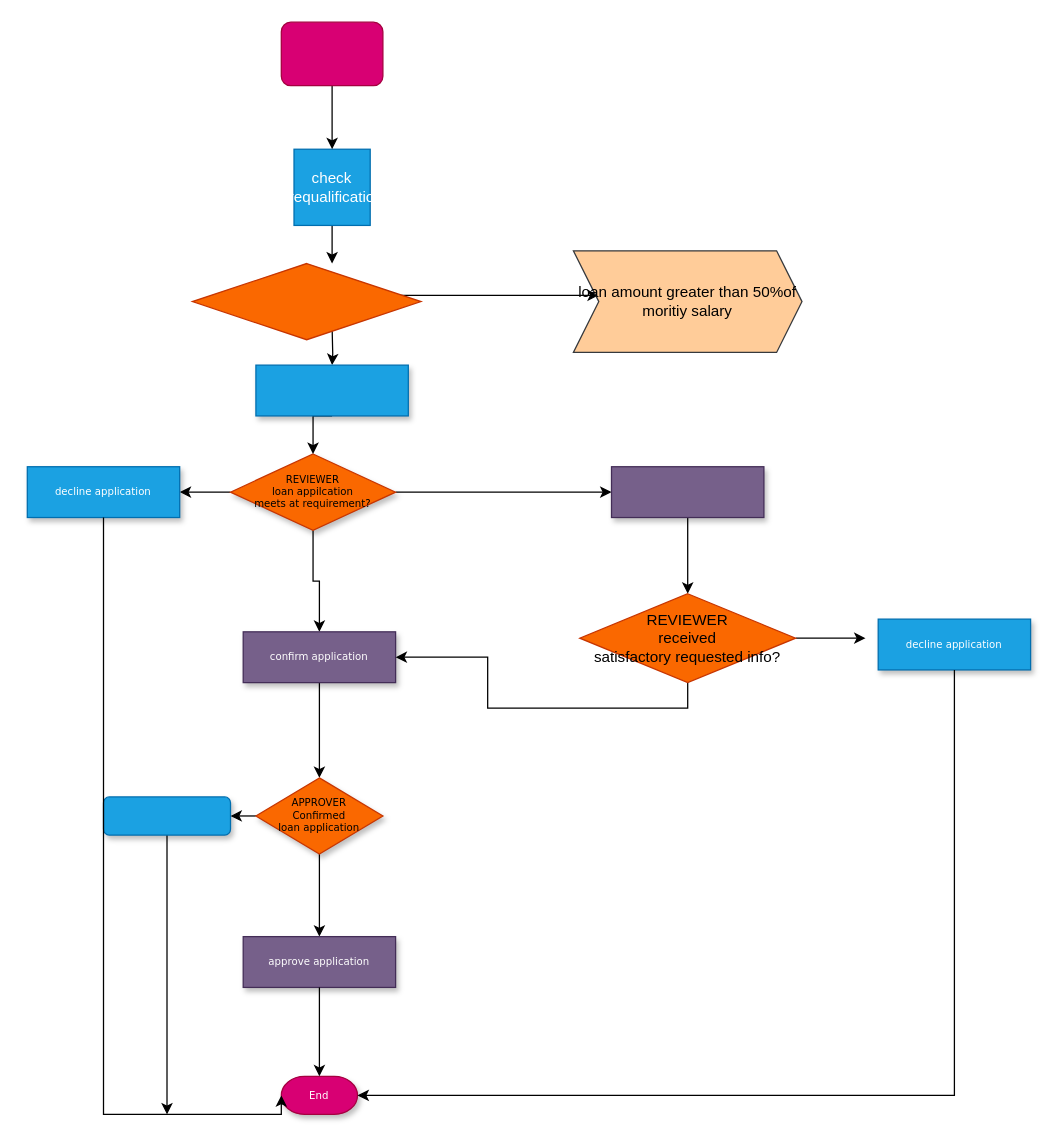
Image size: 1060x1147. Some labels were removed from this diagram. The centre of each missing label's shape, as x and y in pixels:
"decline applications" belongs at (x=167, y=817).
"loan amount=>50%of minority salary?" belongs at (x=306, y=301).
"pend appilcation and Request additional into" belongs at (x=688, y=493).
"START" belongs at (x=331, y=53).
"submit loan appilcations" belongs at (x=333, y=392).
